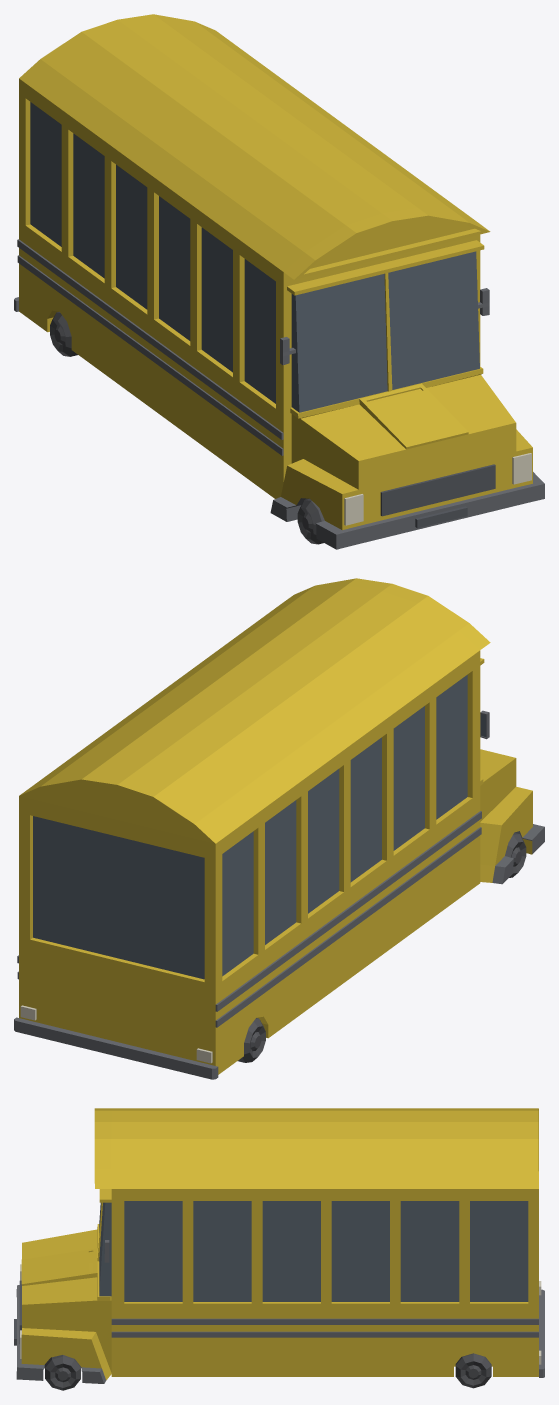
File: schoolbus.glb
3 views of the same model, one above another, from view 1: azimuth 30°, elevation 25°; view 2: azimuth 150°, elevation 25°; view 3: azimuth 270°, elevation 25° (orthographic). The views are drawn at different scales.
Parts seen in each view (by area): view 1: schoolbus; view 2: schoolbus; view 3: schoolbus.
Boxes of the visible parts, box(x1,y1,x2,y2) form: schoolbus: box(14, 14, 544, 549); schoolbus: box(14, 578, 544, 1079); schoolbus: box(14, 1108, 544, 1390).
Size of the model in its own units: 1.88 by 2.19 by 4.61.
